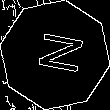N_W: (26, 30, 84, 80)
